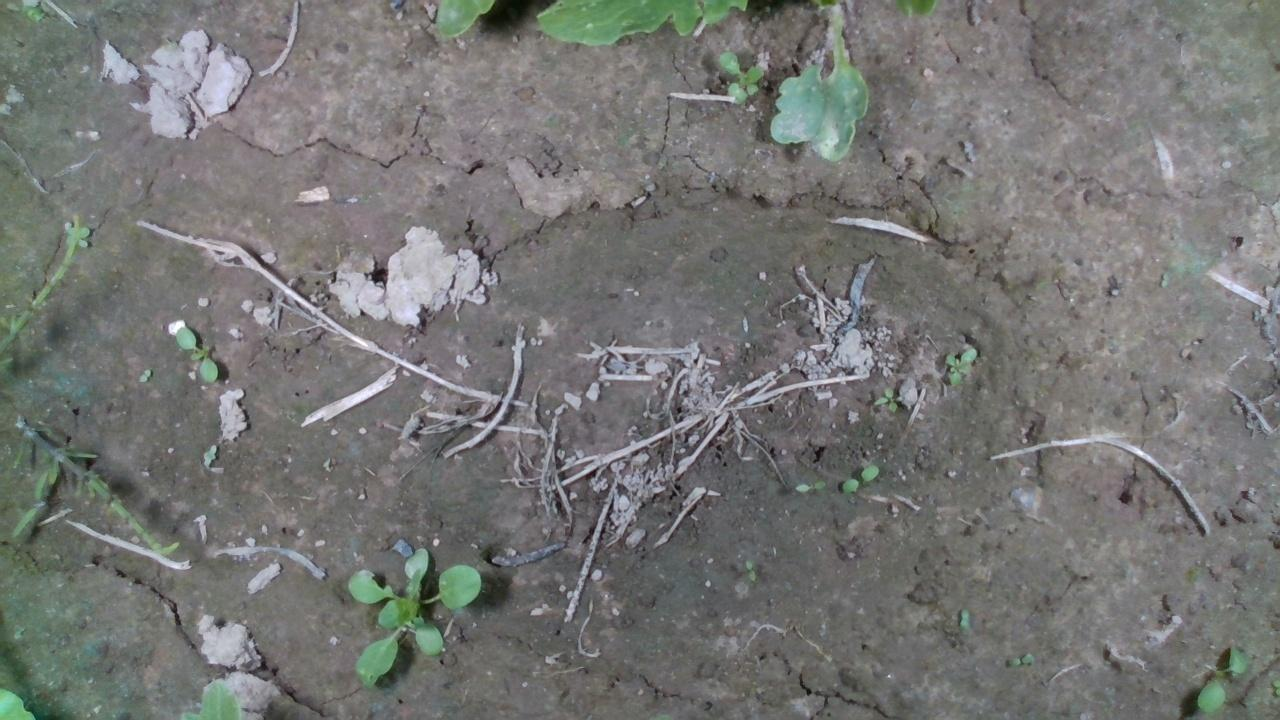weed: (1196, 642, 1245, 711), (173, 324, 219, 383), (716, 50, 764, 104), (841, 461, 881, 492), (942, 351, 972, 386), (871, 384, 902, 415), (790, 478, 826, 493), (742, 558, 756, 583), (137, 366, 151, 382)
